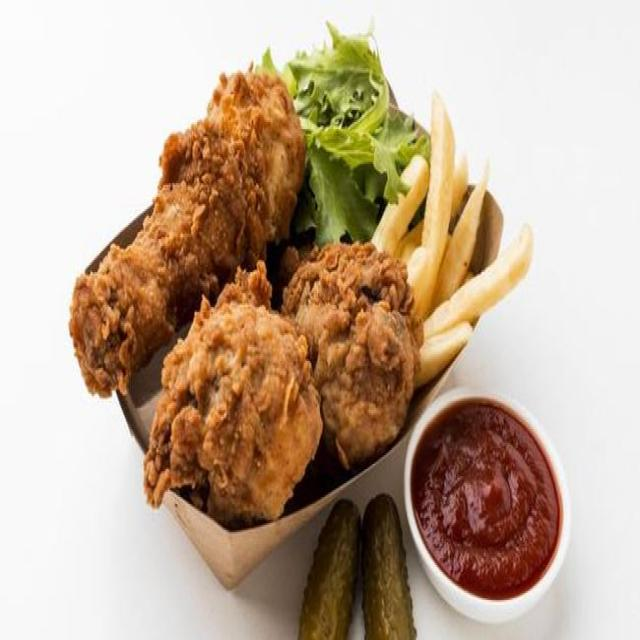Chicken -Fried Chicken-: (59, 58, 312, 412)
